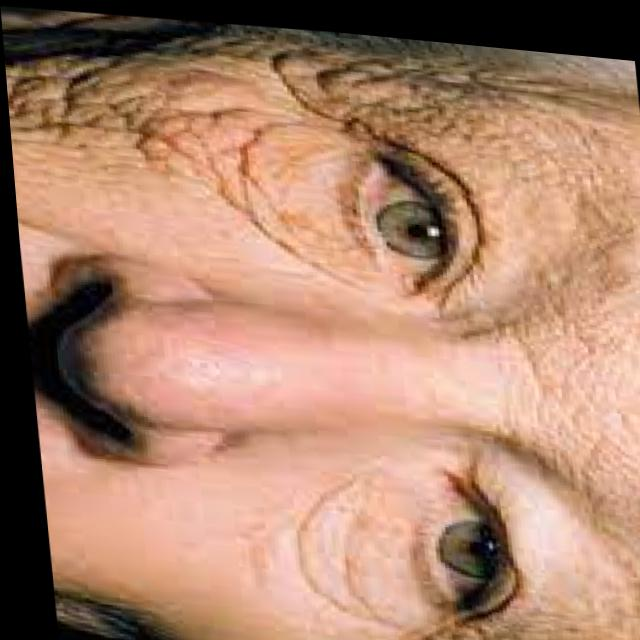Wrinkles: (4, 49, 368, 284), (267, 45, 616, 118), (278, 466, 401, 624)
